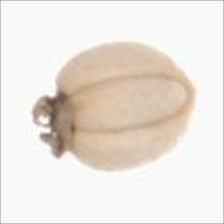L5: (75, 72, 191, 133), (28, 87, 81, 163)
L6: (31, 40, 199, 175)
